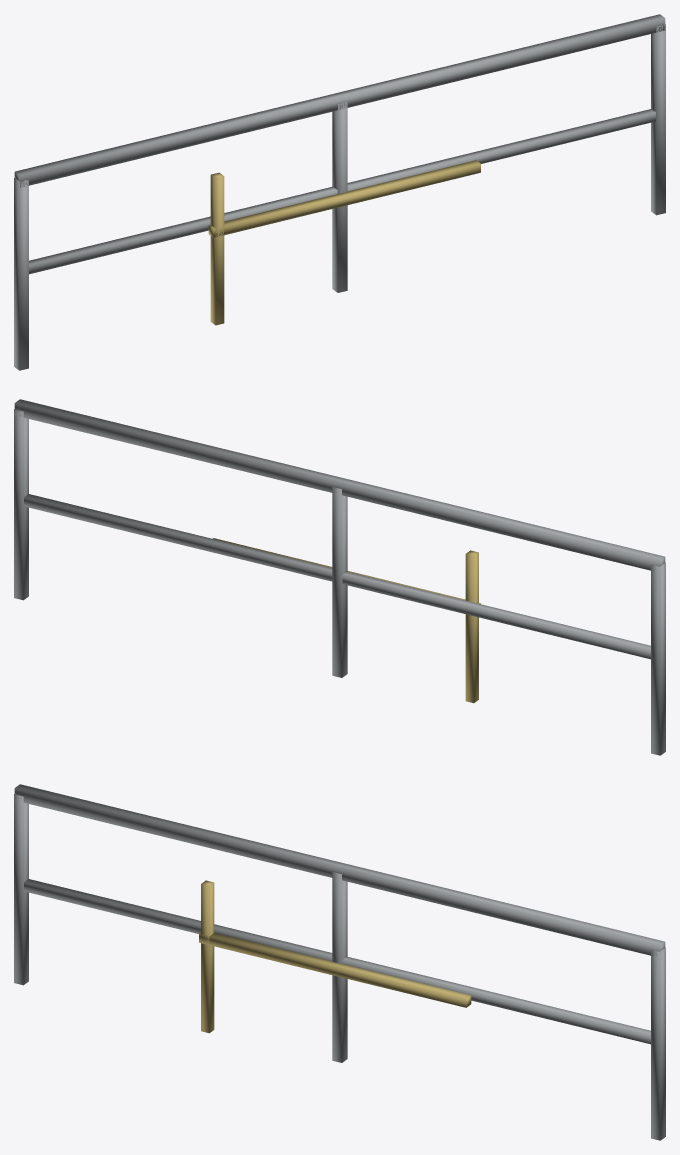
The model's file is residential_gate_l300_h85.glb.
The picture shows the model from 3 angles, top to bottom: view 1: azimuth 30°, elevation 25°; view 2: azimuth 150°, elevation 25°; view 3: azimuth 330°, elevation 25°; orthographic projection.
Visible parts, largest first — view 1: world; view 2: world; view 3: world.
Boxes of the visible parts, x1=… form: world: x1=14, y1=14, x2=665, y2=370; world: x1=14, y1=399, x2=665, y2=755; world: x1=14, y1=784, x2=665, y2=1140.
Bounding box in the file's own units: 3.05 × 0.8775 × 0.0825.
